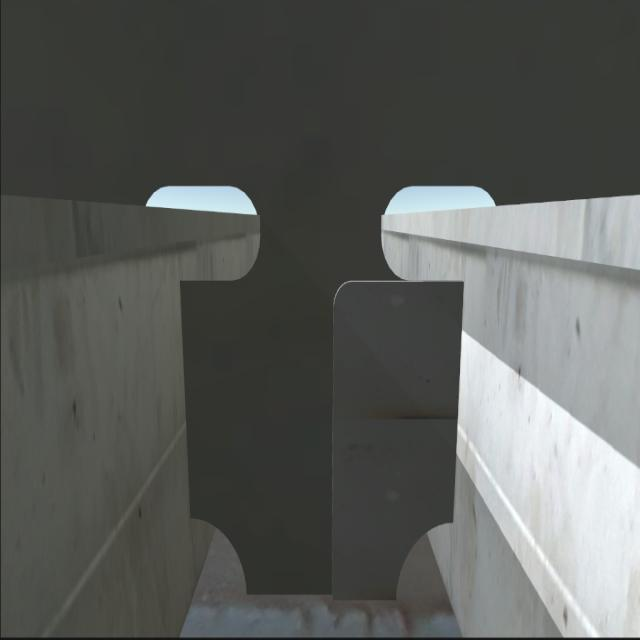fillet_hole: (396, 517, 460, 599), (192, 511, 246, 589)
fillet_yong_jeop_jang: (246, 585, 400, 610)
longi_yong_jeop_jang: (176, 275, 204, 529), (447, 280, 468, 533)
plate_CP05: (328, 269, 466, 600)
